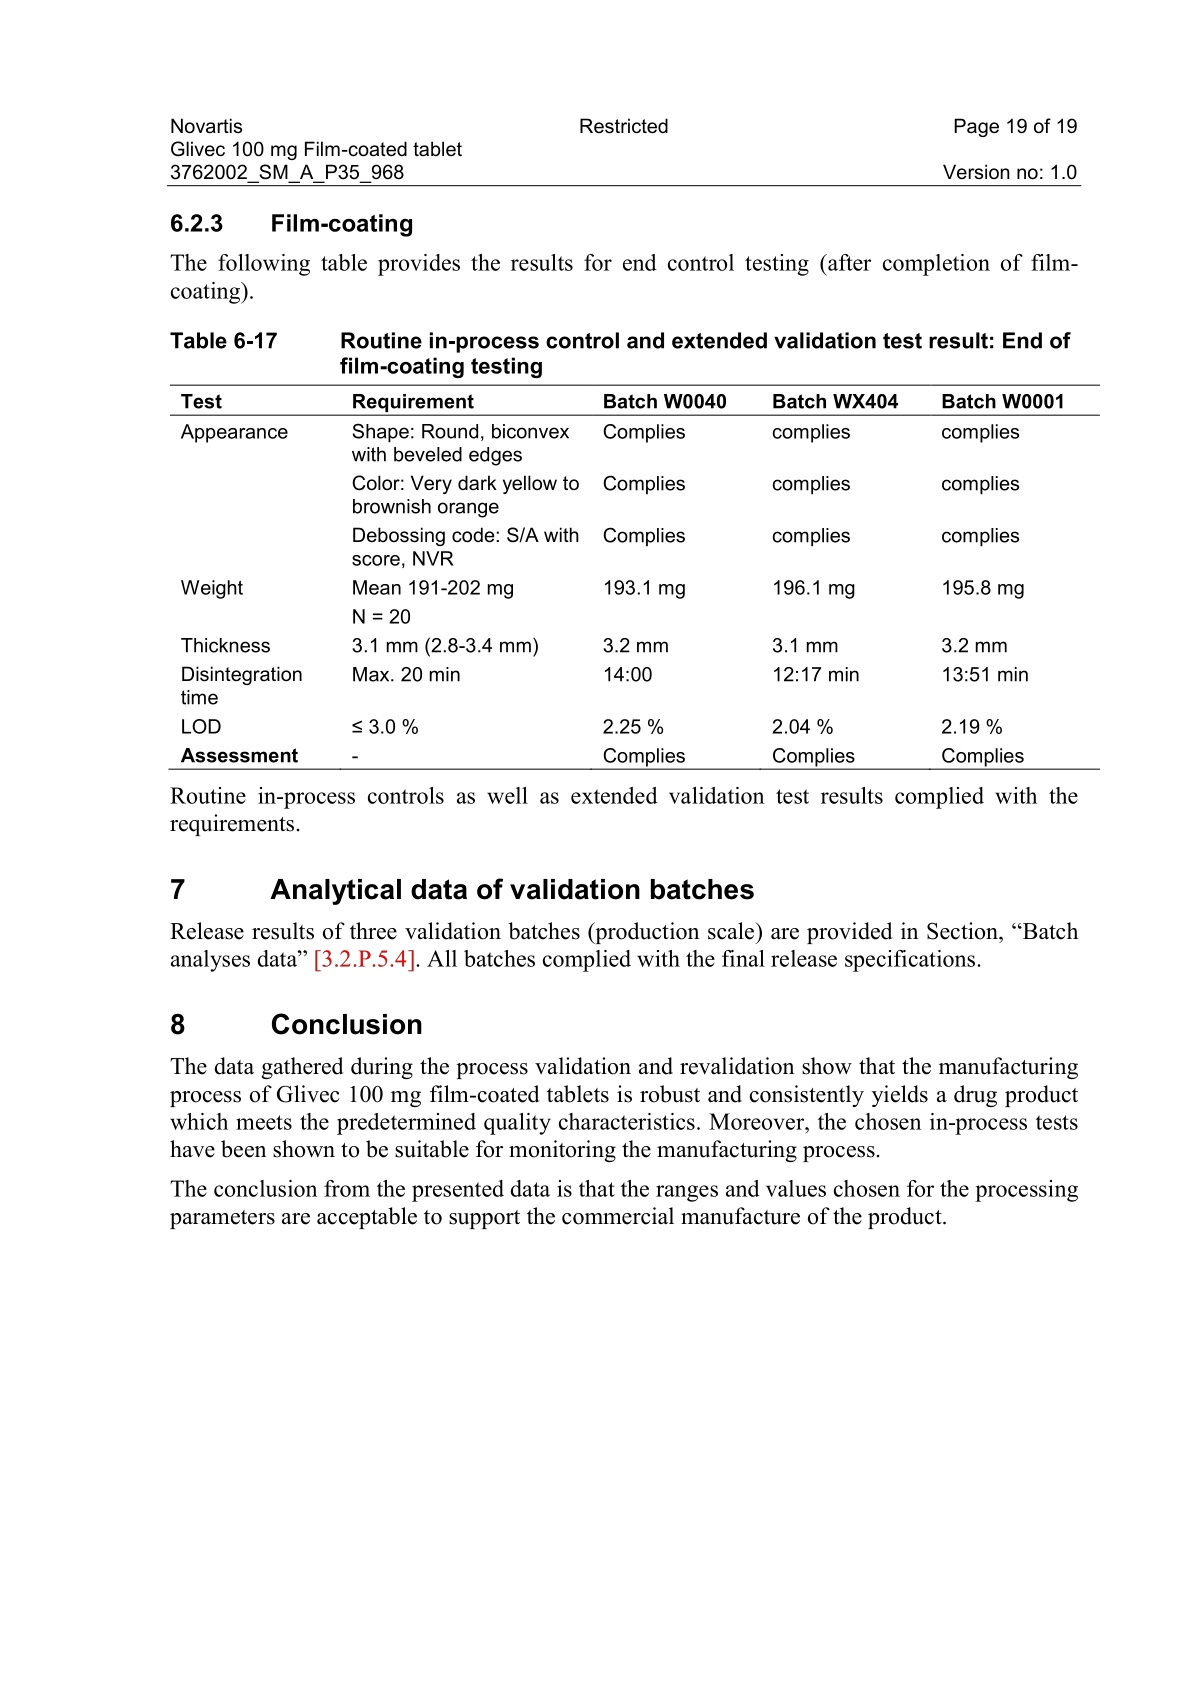partial_lined: (169, 381, 1099, 772)
